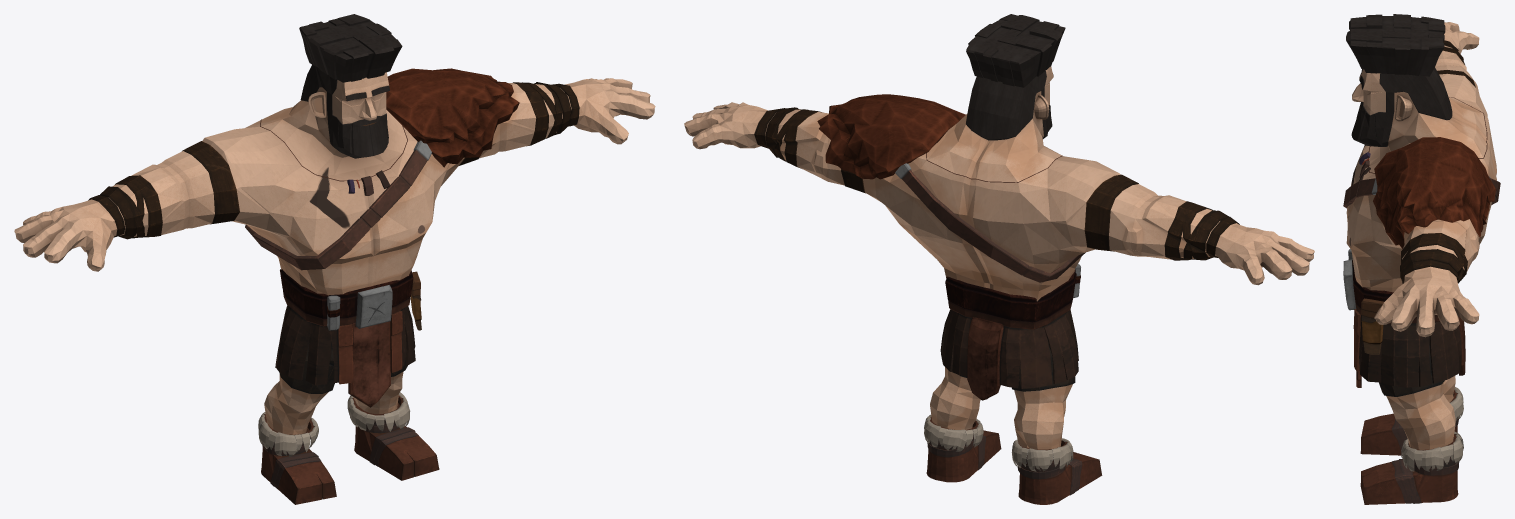
File: Barbarian.fbx
3 views of the same model, side by side, from view 1: azimuth 30°, elevation 25°; view 2: azimuth 150°, elevation 25°; view 3: azimuth 270°, elevation 25° (orthographic).
Visible parts, largest first — view 1: Body007, Pants005, Epaulet005, Hair005, Shoe_Left006, Shoe_Right006, Chest_Belt005, Bangle_Right005, Bangle_Left004, Object105; view 2: Body007, Pants005, Epaulet005, Hair005, Shoe_Right006, Shoe_Left006, Chest_Belt005, Bangle_Right005, Object105, Bangle_Left004; view 3: Body007, Epaulet005, Pants005, Hair005, Shoe_Left006, Bangle_Left004, Shoe_Right006, Belt_etc_011, Chest_Belt005, Neck005.
Part boxes in pixels (bbox=[...]): Body007: bbox=[14, 64, 655, 434]; Pants005: bbox=[275, 269, 415, 407]; Epaulet005: bbox=[386, 68, 519, 167]; Hair005: bbox=[299, 14, 402, 82]; Shoe_Left006: bbox=[347, 392, 439, 480]; Shoe_Right006: bbox=[258, 412, 336, 504]; Chest_Belt005: bbox=[245, 140, 431, 270]; Bangle_Right005: bbox=[88, 175, 162, 239]; Bangle_Left004: bbox=[513, 82, 579, 146]; Object105: bbox=[182, 141, 239, 224]; Body007: bbox=[684, 66, 1314, 449]; Pants005: bbox=[940, 269, 1078, 400]; Epaulet005: bbox=[817, 94, 965, 179]; Hair005: bbox=[966, 14, 1065, 87]; Shoe_Right006: bbox=[1011, 438, 1102, 504]; Shoe_Left006: bbox=[924, 414, 1001, 482]; Chest_Belt005: bbox=[895, 163, 1085, 282]; Bangle_Right005: bbox=[1164, 201, 1239, 260]; Object105: bbox=[1084, 174, 1138, 251]; Bangle_Left004: bbox=[754, 107, 821, 168]; Body007: bbox=[1346, 22, 1496, 449]; Epaulet005: bbox=[1373, 137, 1496, 248]; Pants005: bbox=[1343, 259, 1465, 387]; Hair005: bbox=[1346, 14, 1445, 76]; Shoe_Left006: bbox=[1360, 432, 1463, 504]; Bangle_Left004: bbox=[1400, 233, 1467, 283]; Shoe_Right006: bbox=[1360, 387, 1463, 455]; Belt_etc_011: bbox=[1361, 298, 1383, 354]; Chest_Belt005: bbox=[1343, 176, 1500, 208]; Neck005: bbox=[1359, 97, 1487, 180].
Size of the model in its own units: 328 by 222 by 71.65.
